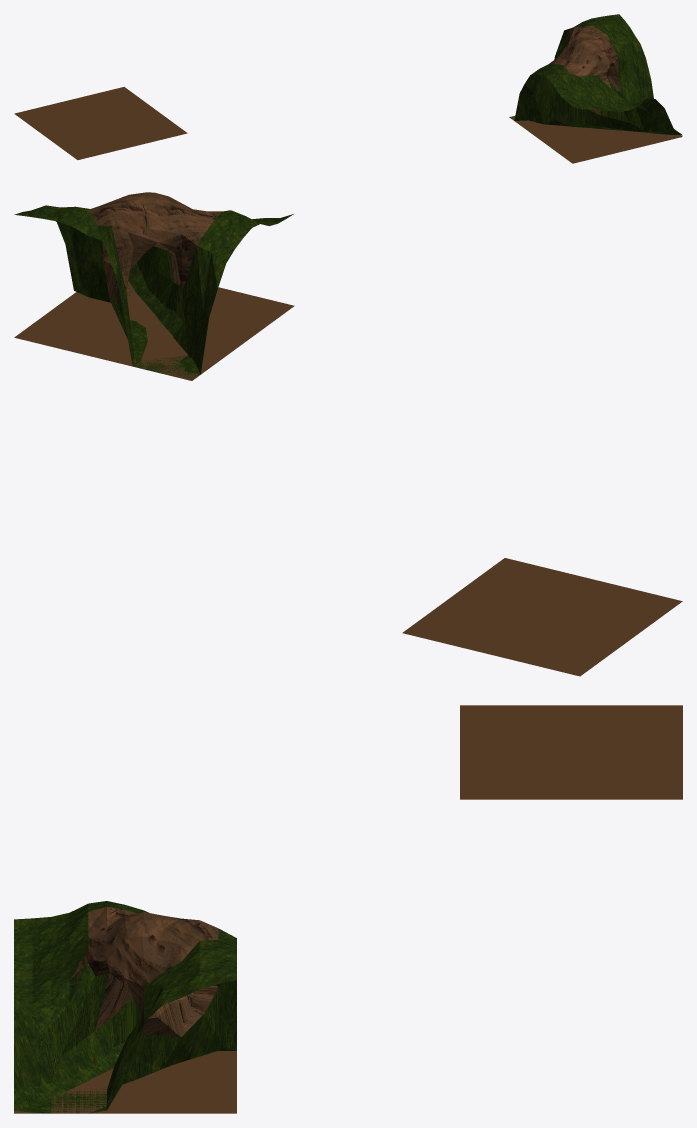
File: arch.obj
3 views of the same model, one above another, from view 1: azimuth 30°, elevation 25°; view 2: azimuth 150°, elevation 25°; view 3: azimuth 270°, elevation 25° (orthographic). The views are drawn at different scales.
Visible parts, largest first — view 1: obj3, align0, Helper, obj4; view 2: align0, obj3, Helper, obj4; view 3: obj3, align0, obj4, Helper.
Part boxes in pixels (box(x1,y1,x2,y2)): obj3: box(510, 14, 682, 135); align0: box(14, 87, 187, 159); Helper: box(509, 116, 682, 163); obj4: box(549, 25, 619, 115); align0: box(402, 558, 682, 676); obj3: box(14, 205, 293, 380); Helper: box(14, 282, 294, 380); obj4: box(90, 192, 221, 299); obj3: box(14, 901, 236, 1113); align0: box(460, 705, 682, 799); obj4: box(70, 906, 218, 1037); Helper: box(14, 1051, 236, 1113).
Bounding box in the file's own units: 520 × 88.26 × 360.
3 materials, 3 textured.
